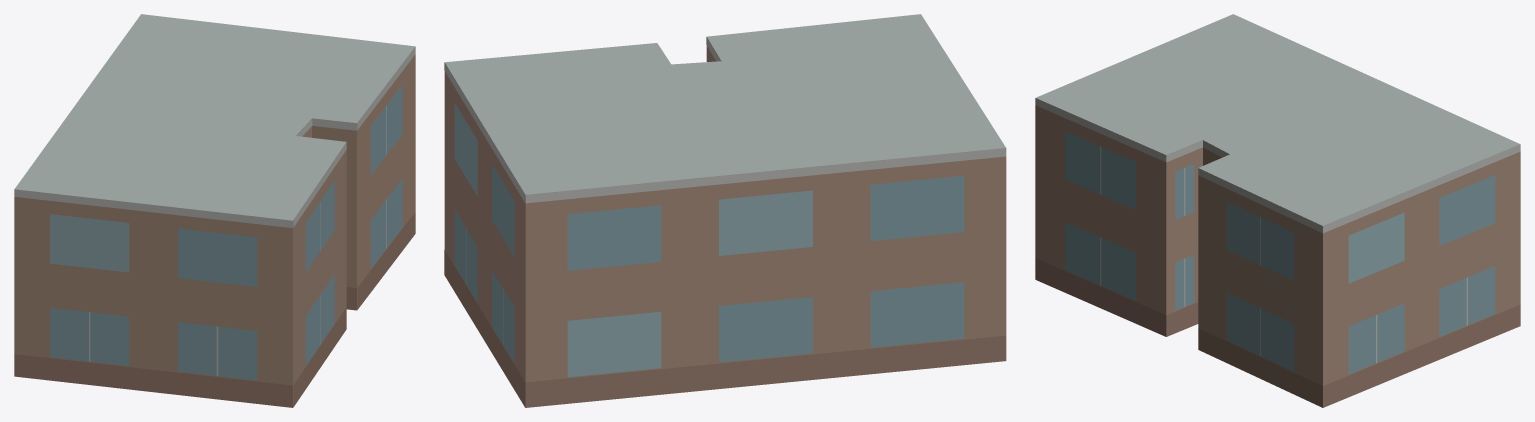
File: survey-upis-32602612.glb
The picture shows the model from 3 angles, left to right: view 1: azimuth 30°, elevation 25°; view 2: azimuth 150°, elevation 25°; view 3: azimuth 270°, elevation 25°; orthographic projection. The views are drawn at different scales.
Visible parts, largest first — view 1: survey-upis-32602612.tmp; view 2: survey-upis-32602612.tmp; view 3: survey-upis-32602612.tmp.
Boxes of the visible parts, <box> form: survey-upis-32602612.tmp: <box>14,14,415,407</box>; survey-upis-32602612.tmp: <box>444,14,1006,407</box>; survey-upis-32602612.tmp: <box>1035,14,1520,407</box>.
Bounding box in the file's own units: 15.27 × 6.1 × 14.76.
